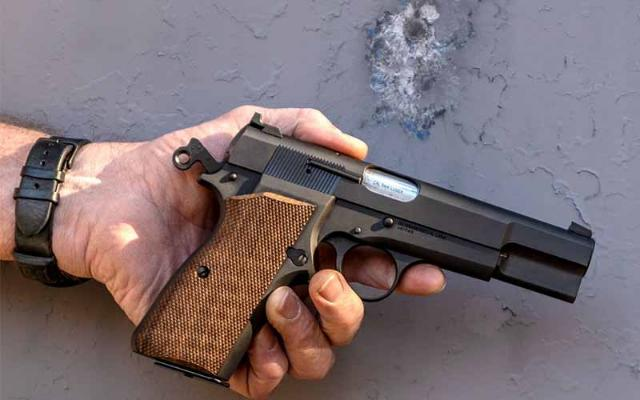handgun: (126, 107, 602, 391)
